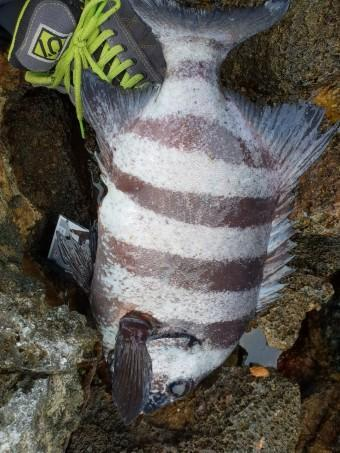fish: (86, 0, 338, 417)
